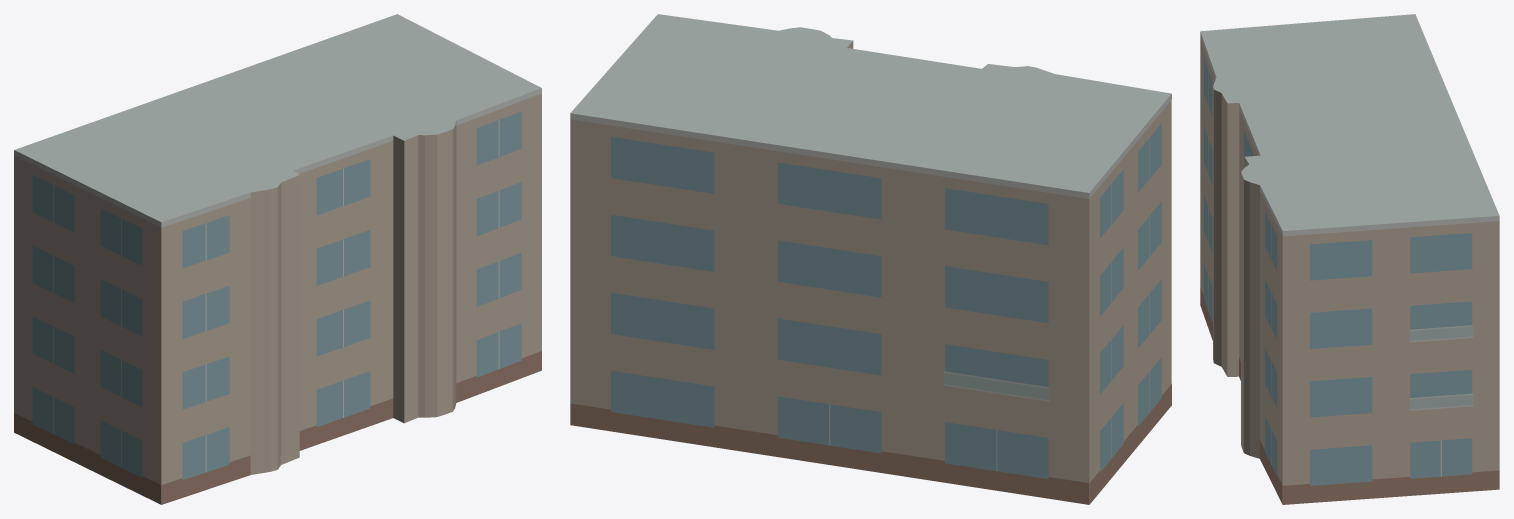
Rendered from survey-upis-32909344.glb.
The picture shows the model from 3 angles, left to right: view 1: azimuth 30°, elevation 25°; view 2: azimuth 150°, elevation 25°; view 3: azimuth 270°, elevation 25°; orthographic projection. The views are drawn at different scales.
Parts seen in each view (by area): view 1: survey-upis-32909344.tmp; view 2: survey-upis-32909344.tmp; view 3: survey-upis-32909344.tmp.
Part boxes in pixels (bbox=[...]): survey-upis-32909344.tmp: bbox=[14, 14, 541, 504]; survey-upis-32909344.tmp: bbox=[570, 14, 1171, 504]; survey-upis-32909344.tmp: bbox=[1200, 14, 1499, 504].
Bounding box in the file's own units: 21.62 × 12.7 × 12.6.
